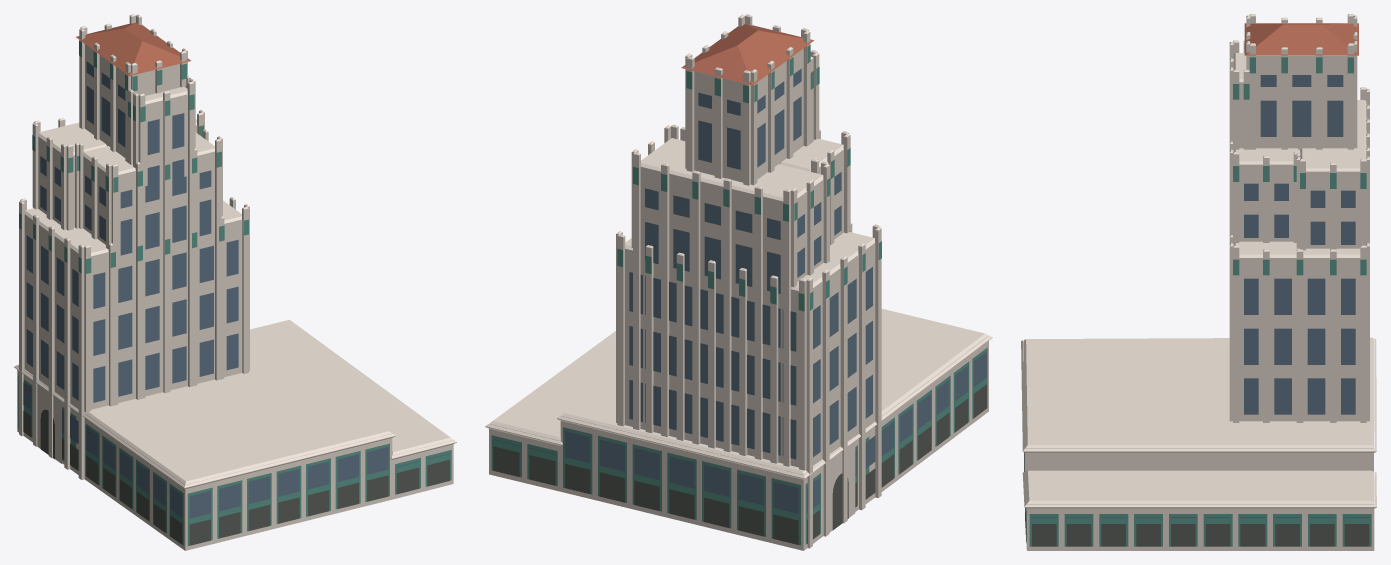
File: phx-luhrs-tower.glb
3 views of the same model, side by side, from view 1: azimuth 30°, elevation 25°; view 2: azimuth 150°, elevation 25°; view 3: azimuth 270°, elevation 25° (orthographic). The views are drawn at different scales.
Visible parts, largest first — view 1: Luhrs Tower; view 2: Luhrs Tower; view 3: Luhrs Tower.
Boxes of the visible parts, bbox=[...] form: Luhrs Tower: bbox=[14, 14, 456, 550]; Luhrs Tower: bbox=[485, 14, 992, 550]; Luhrs Tower: bbox=[1021, 14, 1376, 550].
Size of the model in its own units: 40.9 by 56.5 by 42.65.
